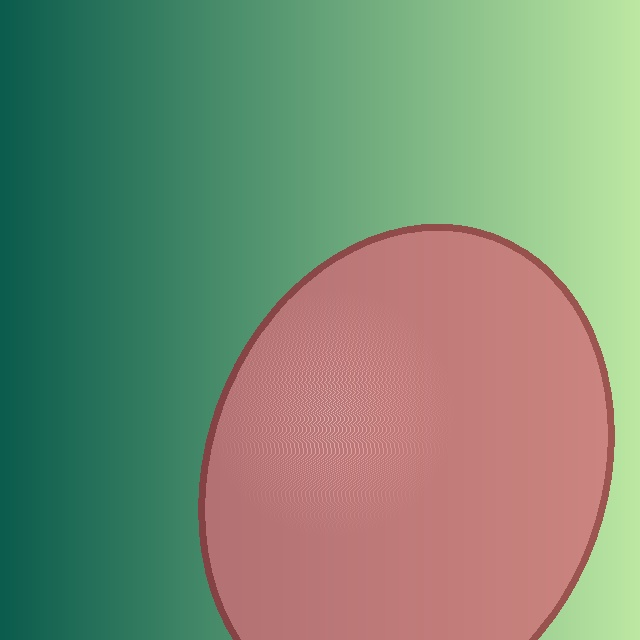lens: (202, 227, 610, 640)
